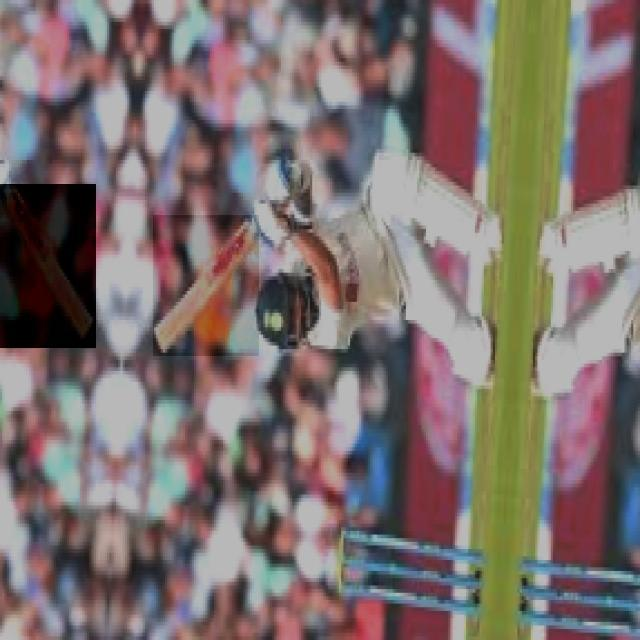bat: (146, 216, 261, 359)
toe: (149, 323, 166, 356)
